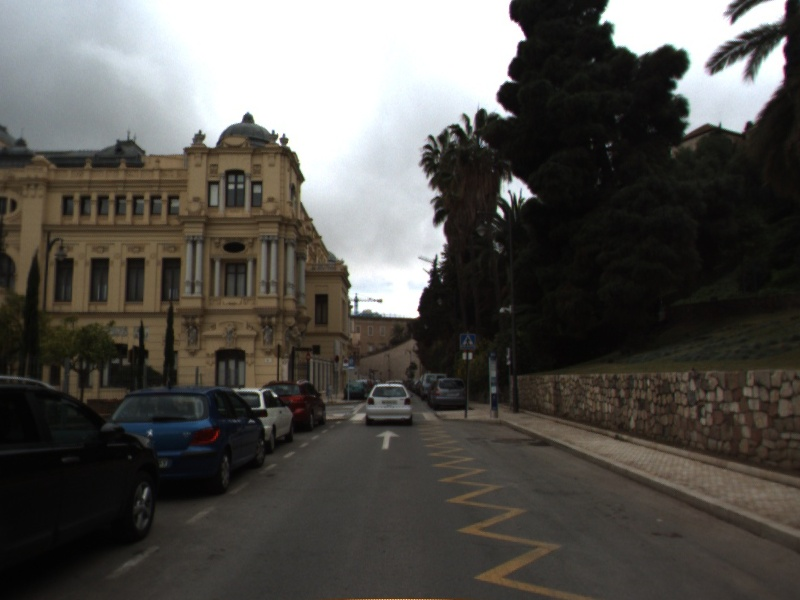STRAIGHT: (373, 429, 402, 451)
